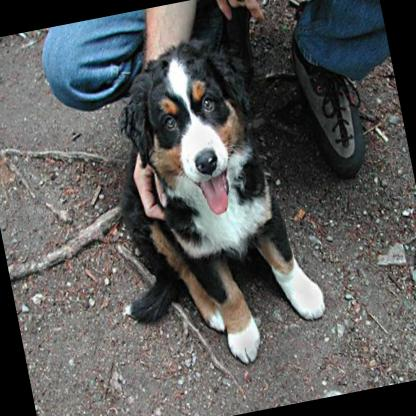Appenzeller: (77, 18, 339, 389)
